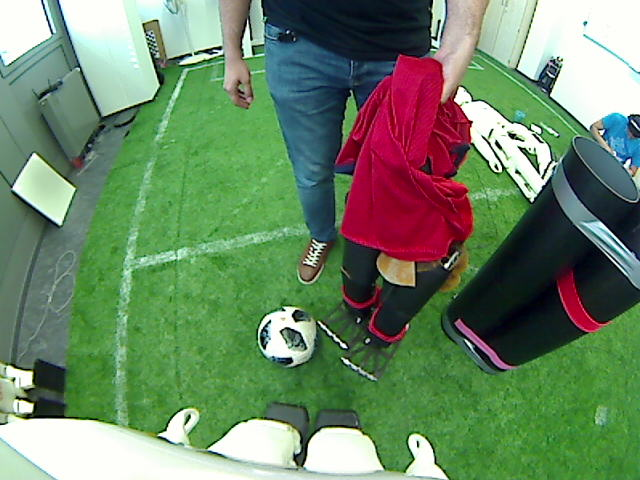ball: (268, 319, 308, 352)
goalpost: (242, 21, 257, 61)
robot: (459, 308, 499, 361), (335, 288, 366, 356), (23, 358, 75, 393), (518, 145, 553, 192)
